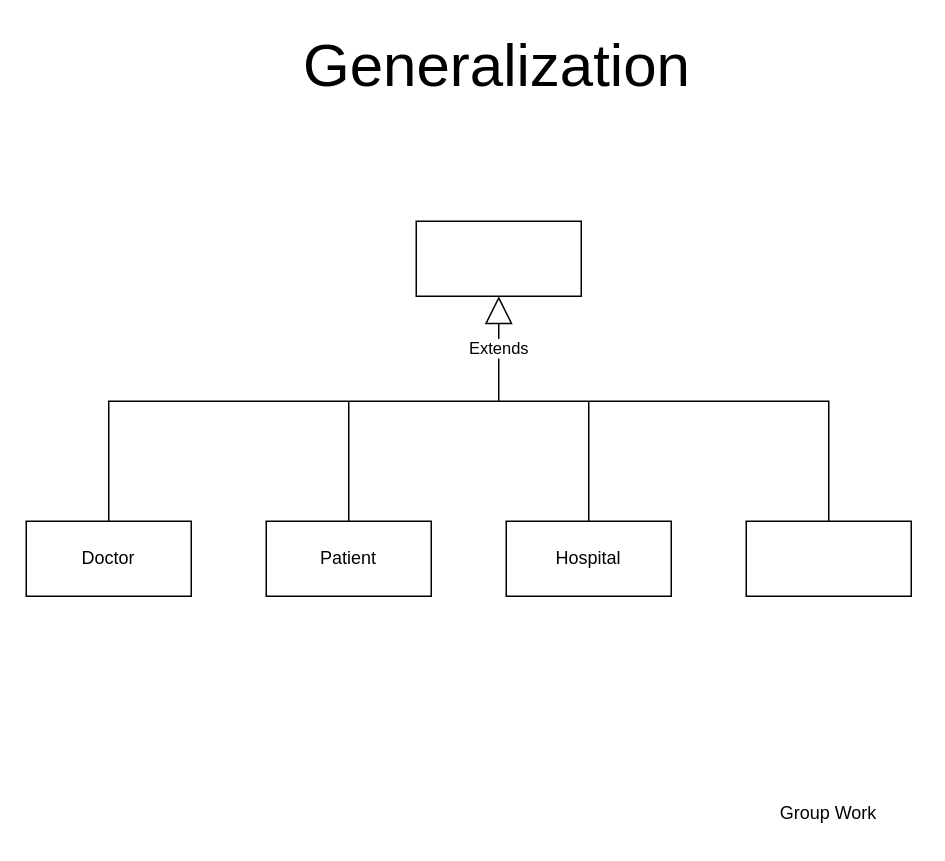
Some shapes in this 945 by 861 pixel diagram are drawn without their labels. Each missing label, with the centre of its shape:
"Diagnostic_Cnter" belongs at (828,558).
"User_Details" belongs at (498,258).
